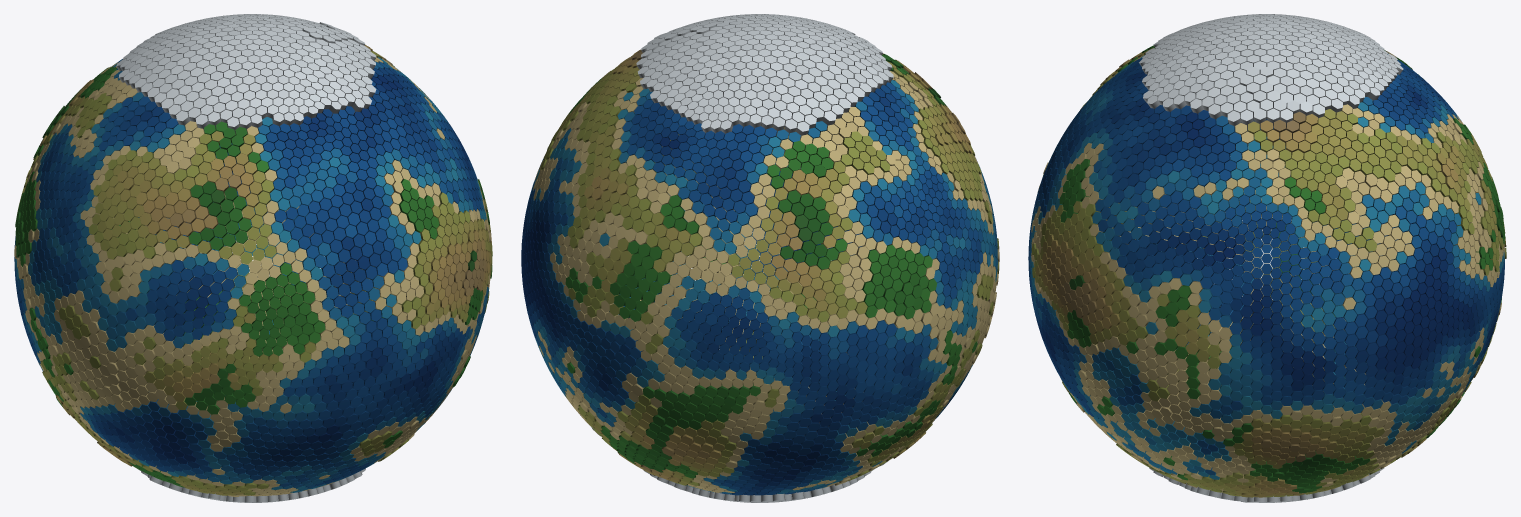
File: terran_0.glb
3 views of the same model, side by side, from view 1: azimuth 30°, elevation 25°; view 2: azimuth 150°, elevation 25°; view 3: azimuth 270°, elevation 25° (orthographic).
Parts seen in each view (by area): view 1: terran_0; view 2: terran_0; view 3: terran_0.
Part boxes in pixels (bbox=[...]): terran_0: bbox=[14, 14, 492, 502]; terran_0: bbox=[521, 14, 999, 502]; terran_0: bbox=[1028, 14, 1506, 502].
Bounding box in the file's own units: 2 × 2.05 × 2.01.
